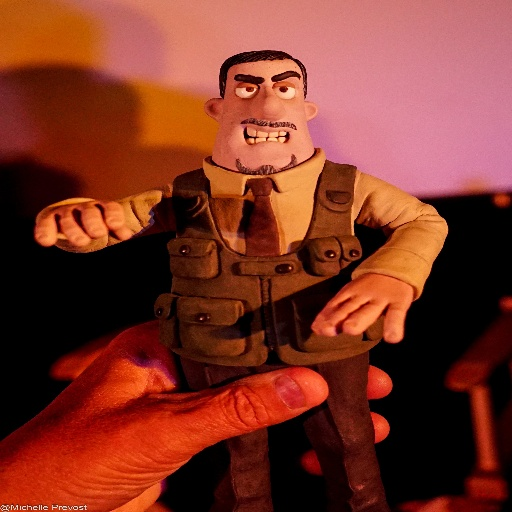hand: (0, 315, 390, 511), (31, 182, 169, 253), (305, 271, 415, 344)
